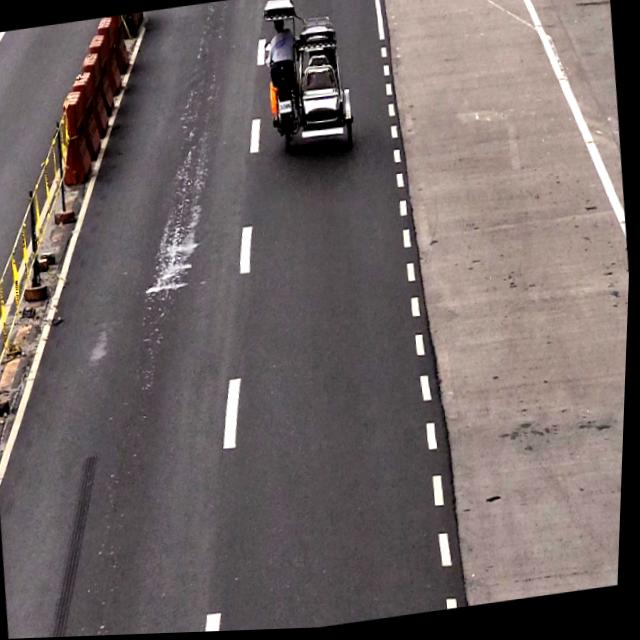License-Plate: (278, 102, 294, 117)
Tricycle: (260, 0, 359, 154)
